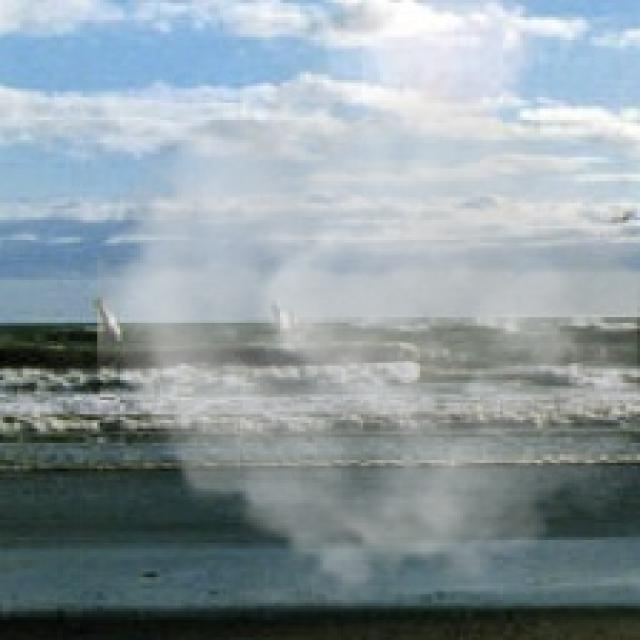smoke: (97, 55, 637, 614)
